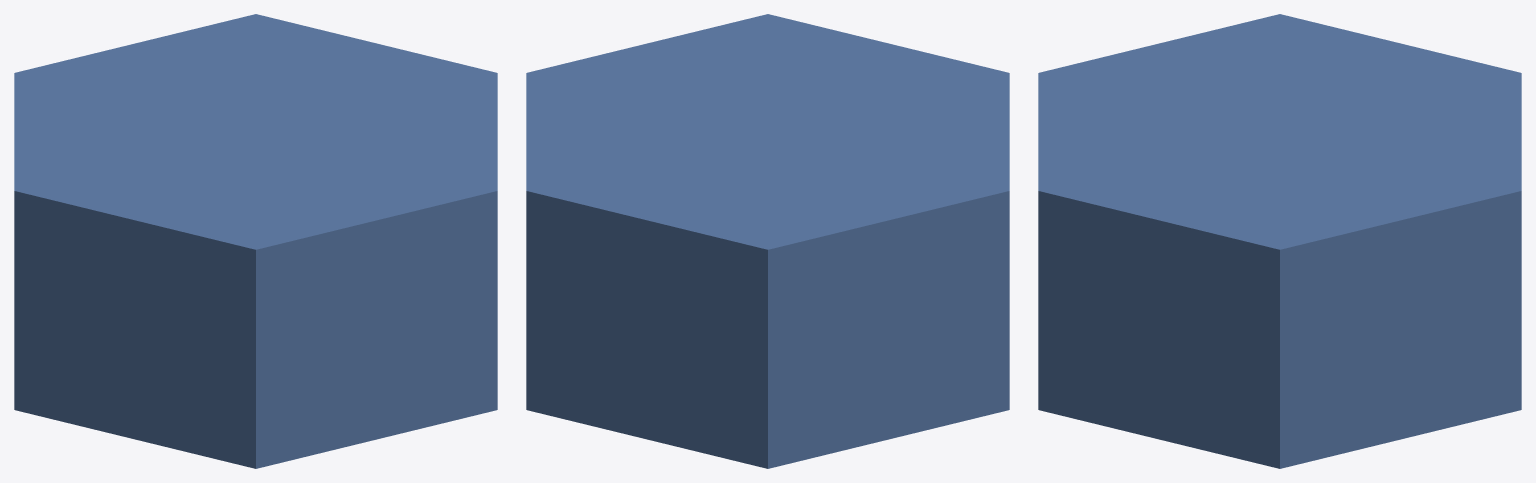
Rendered from hex_21_lake_lake_lake_lake_lake_lake.glb.
3 views of the same model, side by side, from view 1: azimuth 30°, elevation 25°; view 2: azimuth 150°, elevation 25°; view 3: azimuth 270°, elevation 25° (orthographic).
Parts seen in each view (by area): view 1: hex_21_lake_lake_lake_lake_lake_lake; view 2: hex_21_lake_lake_lake_lake_lake_lake; view 3: hex_21_lake_lake_lake_lake_lake_lake.
Boxes of the visible parts, box(x1,y1,x2,y2) form: hex_21_lake_lake_lake_lake_lake_lake: box(14, 14, 497, 468); hex_21_lake_lake_lake_lake_lake_lake: box(526, 14, 1009, 468); hex_21_lake_lake_lake_lake_lake_lake: box(1038, 14, 1521, 468).
Size of the model in its own units: 1.15 by 0.5 by 0.9994.
